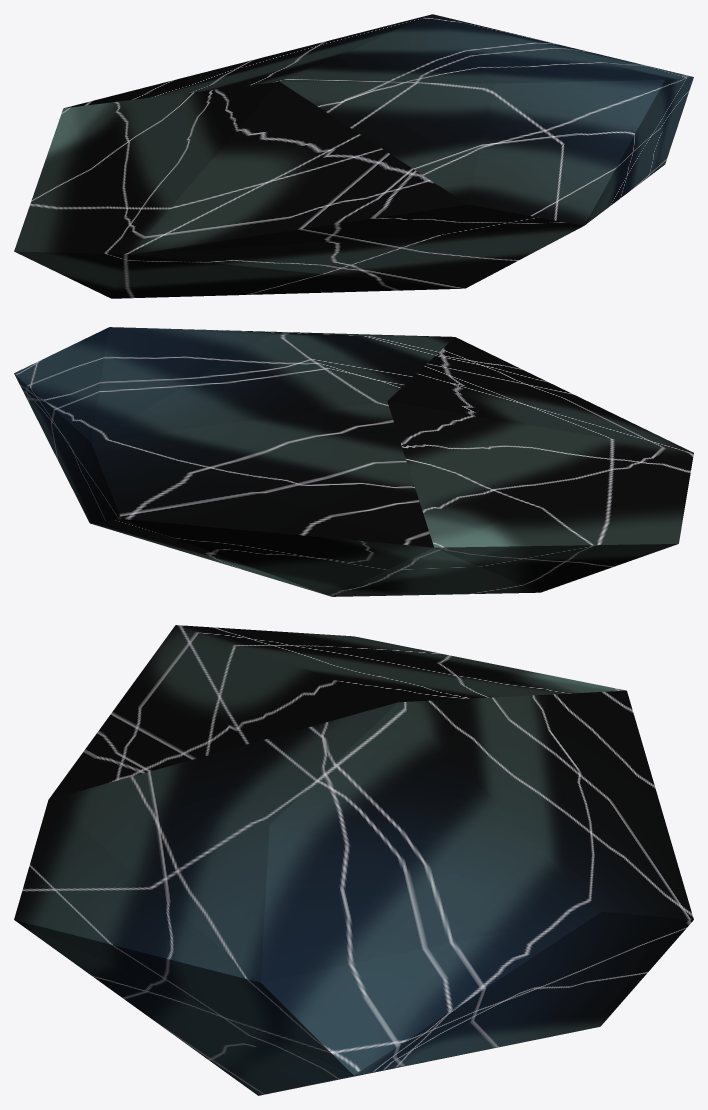
Rendered from hurtPlayer.fbx.
3 renders of one model, top to bottom at view 1: azimuth 30°, elevation 25°; view 2: azimuth 150°, elevation 25°; view 3: azimuth 270°, elevation 25°, orthographic. The views are drawn at different scales.
Visible parts, largest first — view 1: Icosphere; view 2: Icosphere; view 3: Icosphere.
Boxes of the visible parts, bbox=[...] form: Icosphere: bbox=[14, 14, 693, 298]; Icosphere: bbox=[14, 327, 693, 596]; Icosphere: bbox=[14, 625, 693, 1095].
Size of the model in its own units: 312 by 71.9 by 199.
